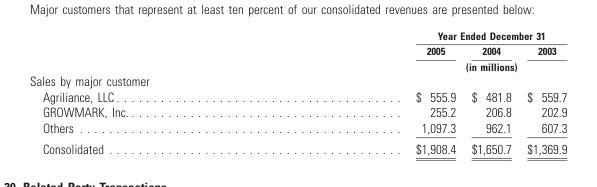table: (28, 28, 566, 155)
table column: (28, 28, 271, 155), (271, 28, 462, 155), (462, 28, 518, 155), (518, 28, 566, 155)
table column header: (28, 28, 566, 72)
table projected row header: (28, 72, 566, 88)
table row: (28, 119, 566, 137), (28, 137, 566, 155), (28, 42, 566, 58), (28, 72, 566, 88), (28, 88, 566, 104), (28, 104, 566, 119), (28, 28, 566, 42), (28, 58, 566, 72)
table spanning cell: (271, 28, 566, 42), (271, 58, 566, 72)
